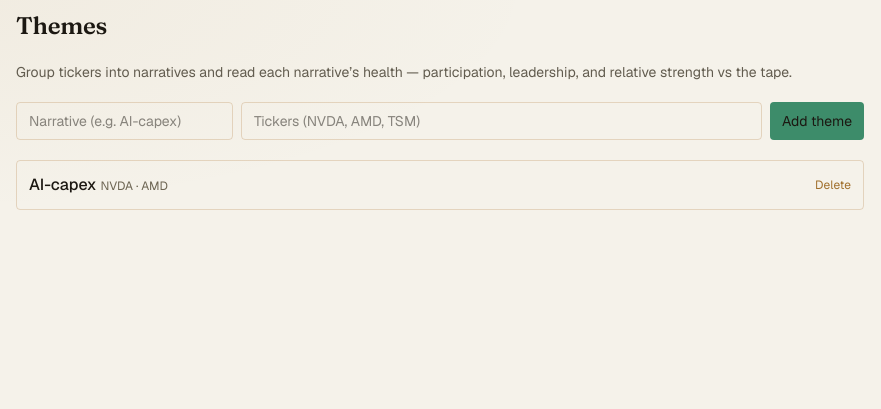
it: ThemesPage › lists themes and renders narrative health
Click the text "AI-capex".
click(63, 184)  # box [29, 174, 96, 195]
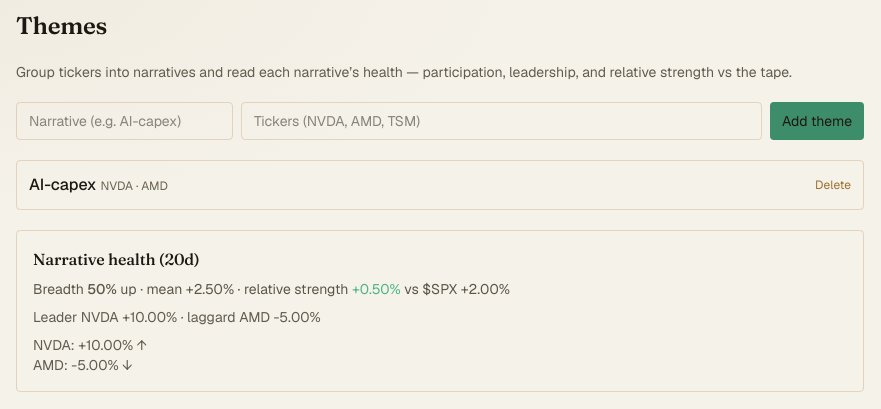
Expected: the element with test id "theme-health" shows "Breadth", [33, 280, 87, 298]
Expected: the element with test id "theme-health" shows "relative strength", [234, 280, 348, 298]
Expected: the element with test id "theme-health" shows "Leader NVDA", [16, 230, 864, 392]
